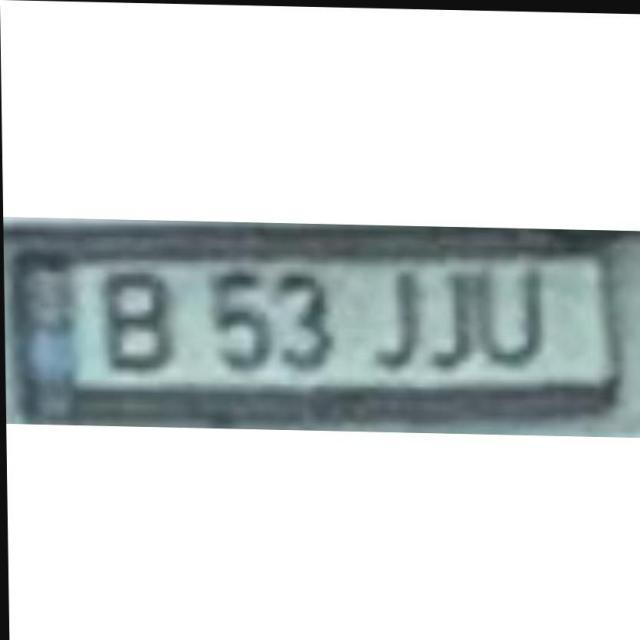license-plates: (0, 253, 640, 429)
